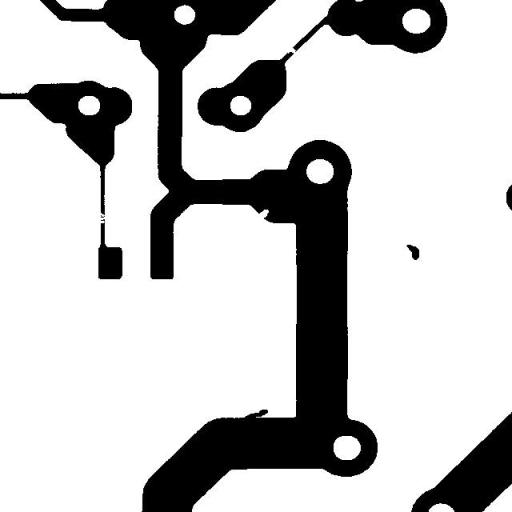copper: (398, 237, 426, 267)
mousebite: (250, 202, 276, 226)
open: (86, 205, 115, 230), (279, 40, 304, 62)
spur: (237, 402, 275, 427)
